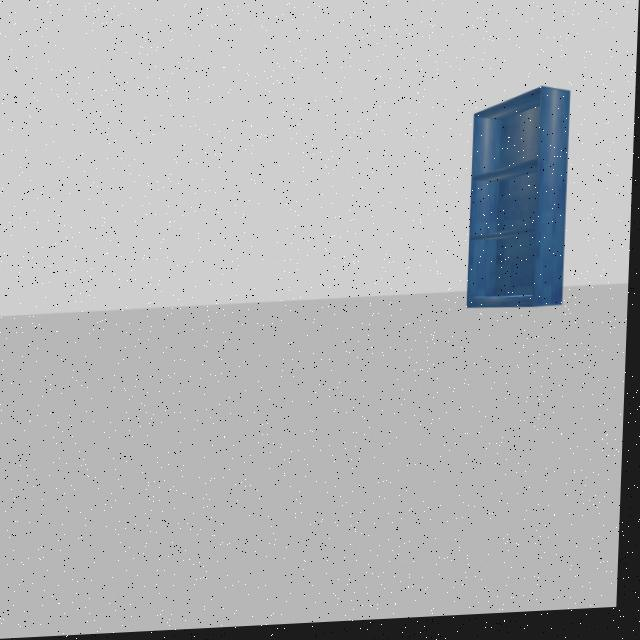shelf: (452, 77, 579, 324)
